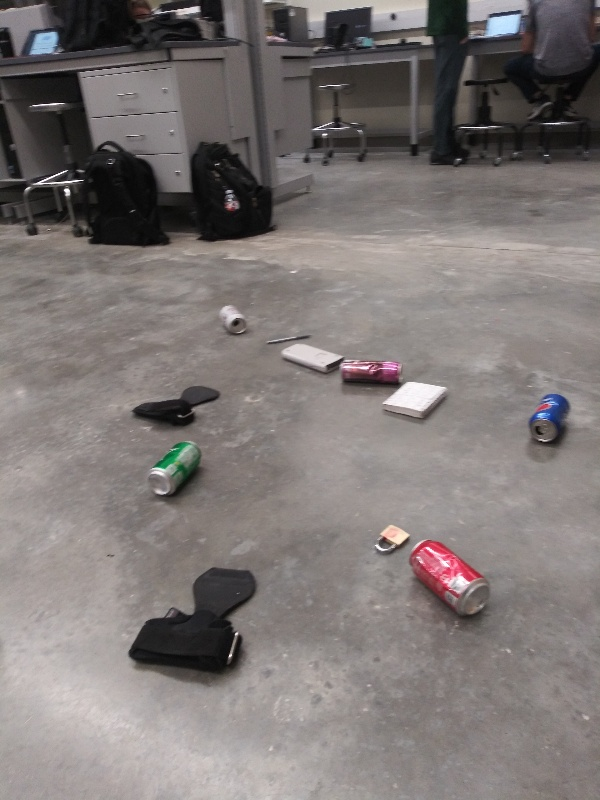can: (403, 533, 498, 621), (145, 437, 206, 500), (525, 389, 575, 446), (333, 355, 409, 388), (212, 298, 251, 339)
